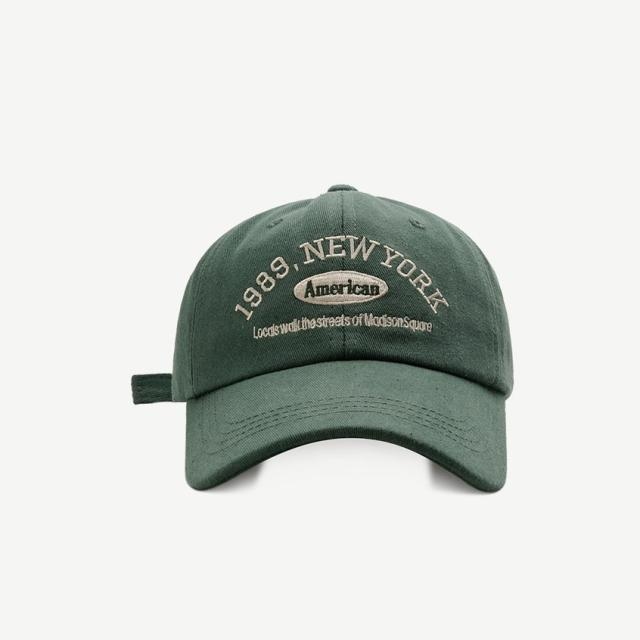Nonhelmet: (128, 179, 518, 496)
